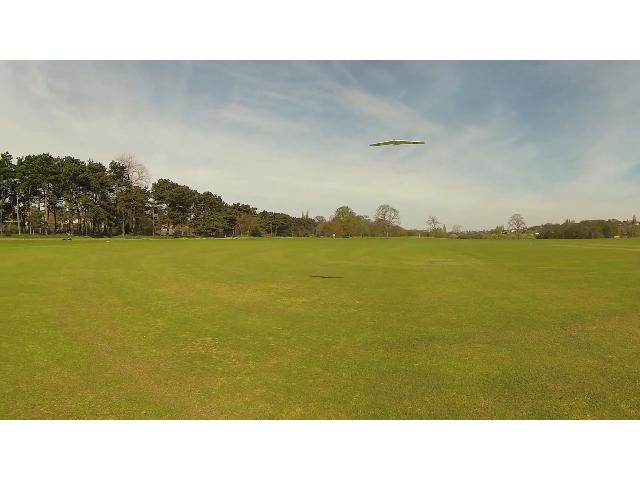Anti-Drone: (355, 131, 435, 161)
